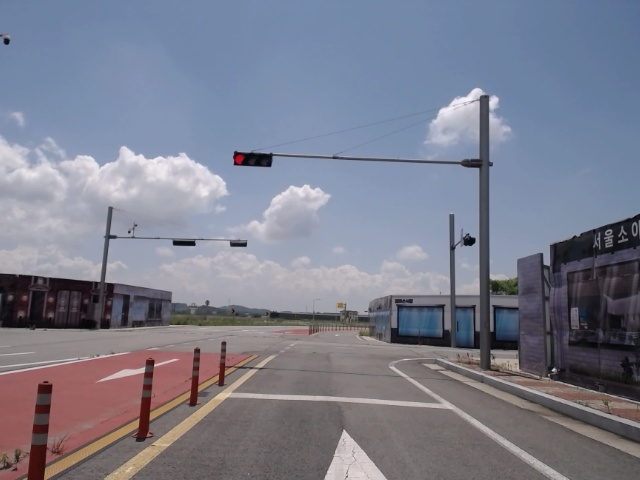red_3: (230, 150, 273, 168)
